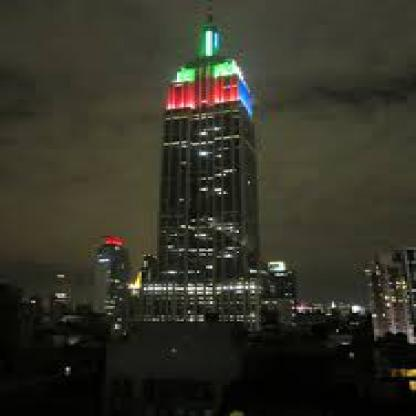Empire-State-building: (123, 0, 291, 320)
